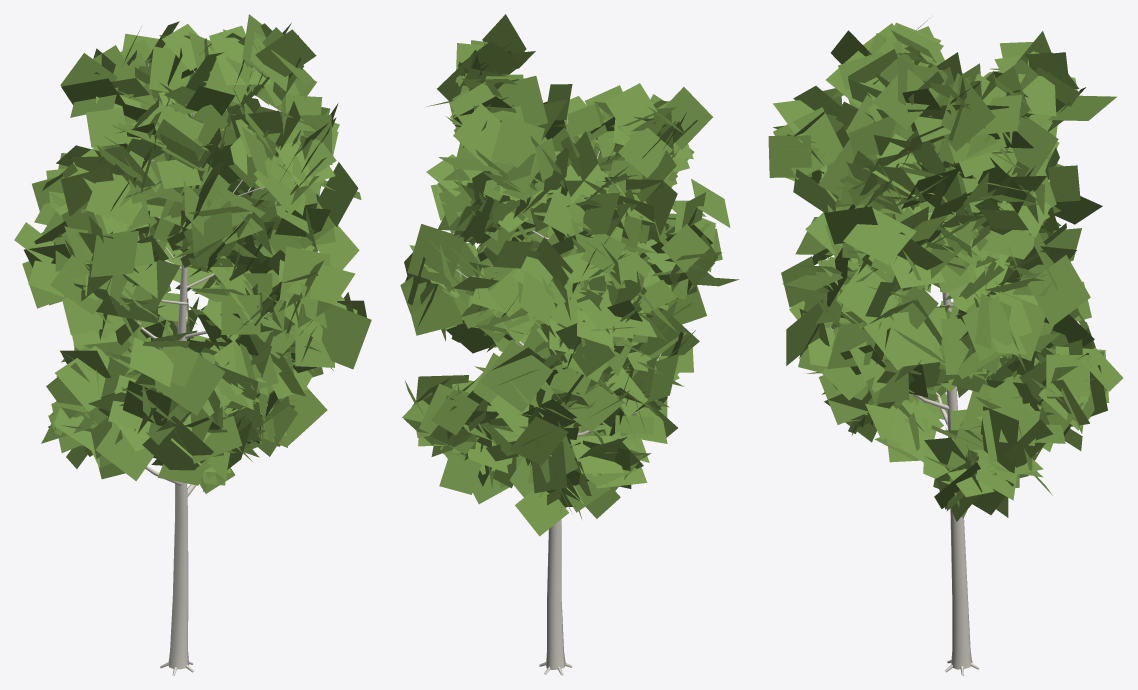
File: birch-4-lod0.glb
3 views of the same model, side by side, from view 1: azimuth 30°, elevation 25°; view 2: azimuth 150°, elevation 25°; view 3: azimuth 270°, elevation 25° (orthographic). The views are drawn at different scales.
Parts seen in each view (by area): view 1: birch-4-lod0-foliage, birch-4-lod0-bark; view 2: birch-4-lod0-foliage, birch-4-lod0-bark; view 3: birch-4-lod0-foliage, birch-4-lod0-bark.
Part boxes in pixels (box(x1,y1,x2,y2)): birch-4-lod0-foliage: box(14, 14, 371, 493); birch-4-lod0-bark: box(52, 63, 295, 675); birch-4-lod0-foliage: box(400, 14, 739, 536); birch-4-lod0-bark: box(455, 118, 661, 675); birch-4-lod0-foliage: box(768, 18, 1122, 521); birch-4-lod0-bark: box(829, 213, 1035, 675).
Bounding box in the file's own units: 11.94 × 22.85 × 11.24.
